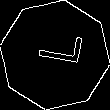L_W: (27, 35, 83, 75)
